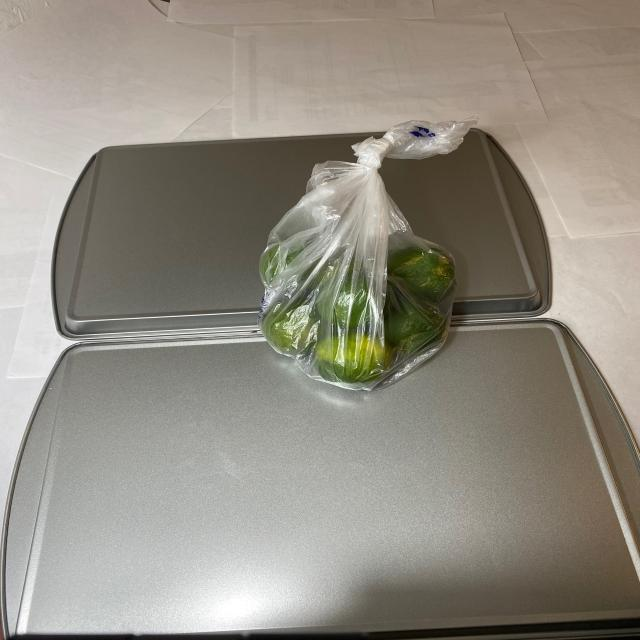lemon: (253, 223, 462, 396)
